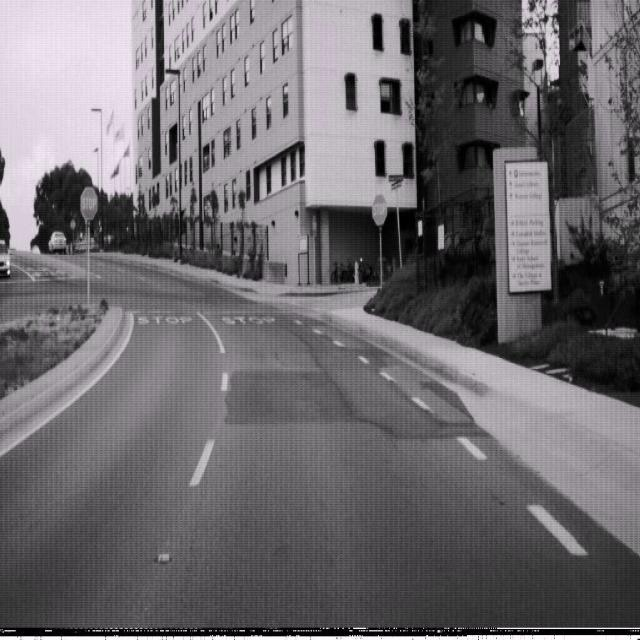stop: (80, 185, 98, 221), (371, 192, 387, 225)
